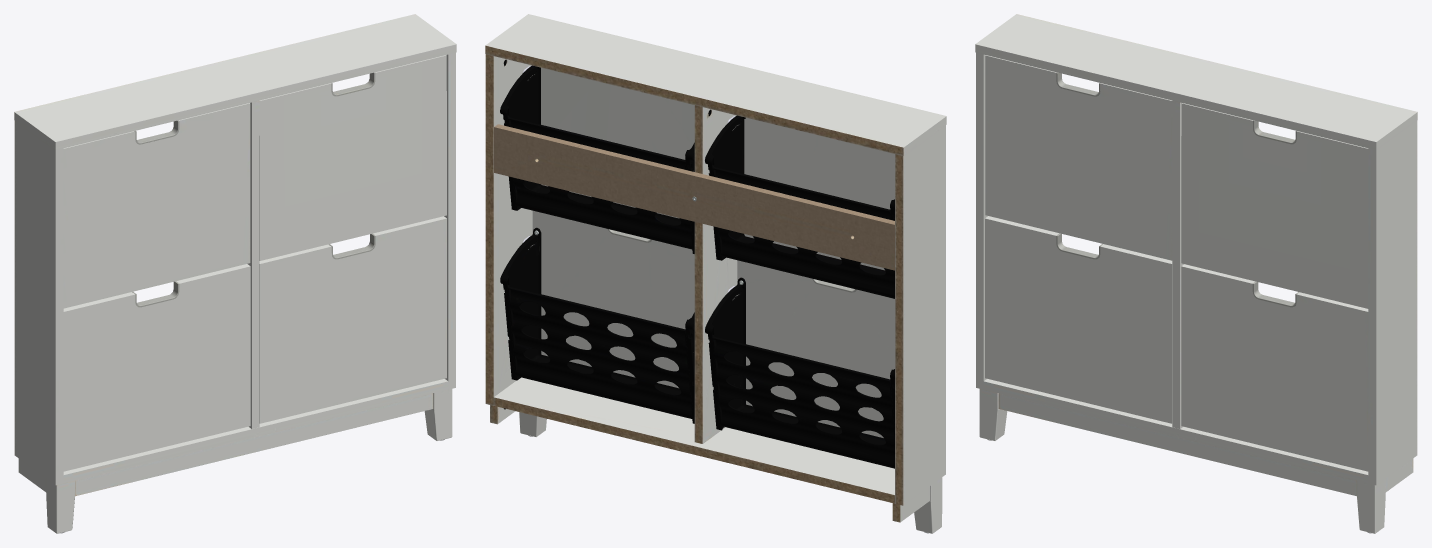
The model's file is stall_szafka_na_buty_4_przegrody_60530266.glb.
3 views of the same model, side by side, from view 1: azimuth 30°, elevation 25°; view 2: azimuth 150°, elevation 25°; view 3: azimuth 330°, elevation 25° (orthographic). The views are drawn at different scales.
Parts seen in each view (by area): view 1: stall_szafka_na_buty_4_przegrody_60530266; view 2: stall_szafka_na_buty_4_przegrody_60530266; view 3: stall_szafka_na_buty_4_przegrody_60530266.
Part boxes in pixels (box(x1,y1,x2,y2)): stall_szafka_na_buty_4_przegrody_60530266: box(14, 14, 456, 533); stall_szafka_na_buty_4_przegrody_60530266: box(485, 14, 946, 533); stall_szafka_na_buty_4_przegrody_60530266: box(975, 14, 1417, 533).
Bounding box in the file's own units: 0.957 × 0.903 × 0.171.
Materials: 1 (1 with a texture image).
